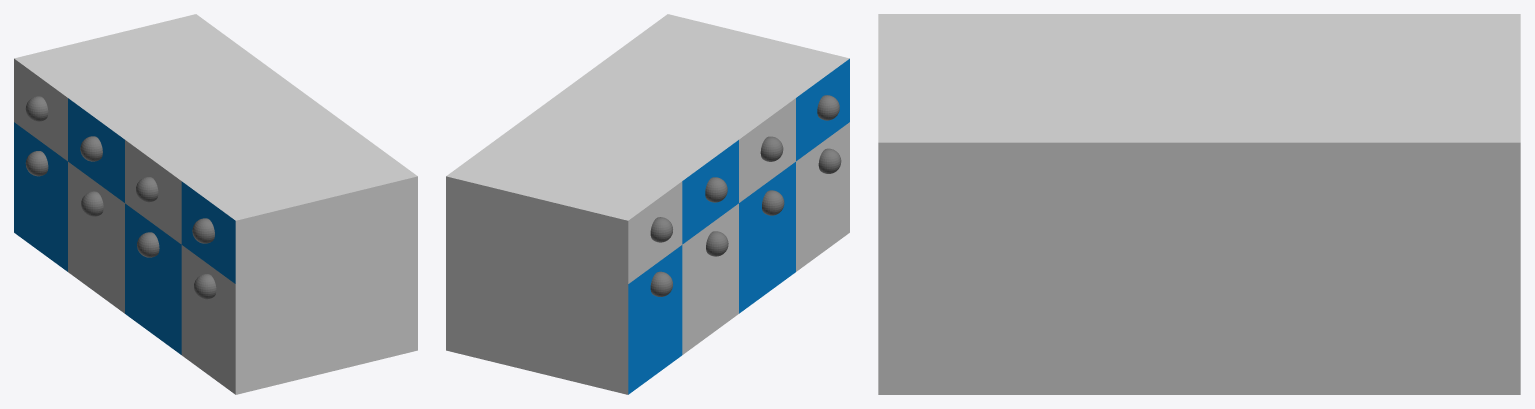
File: Тумба.fbx
The picture shows the model from 3 angles, left to right: view 1: azimuth 30°, elevation 25°; view 2: azimuth 150°, elevation 25°; view 3: azimuth 270°, elevation 25°; orthographic projection. The views are drawn at different scales.
Visible parts, largest first — view 1: Cube.004; view 2: Cube.004; view 3: Cube.004.
Boxes of the visible parts, x1,y1,x2,y2 form: Cube.004: [14, 14, 417, 394]; Cube.004: [446, 14, 849, 394]; Cube.004: [878, 14, 1520, 394].
Bounding box in the file's own units: 112 × 94.95 × 219.
